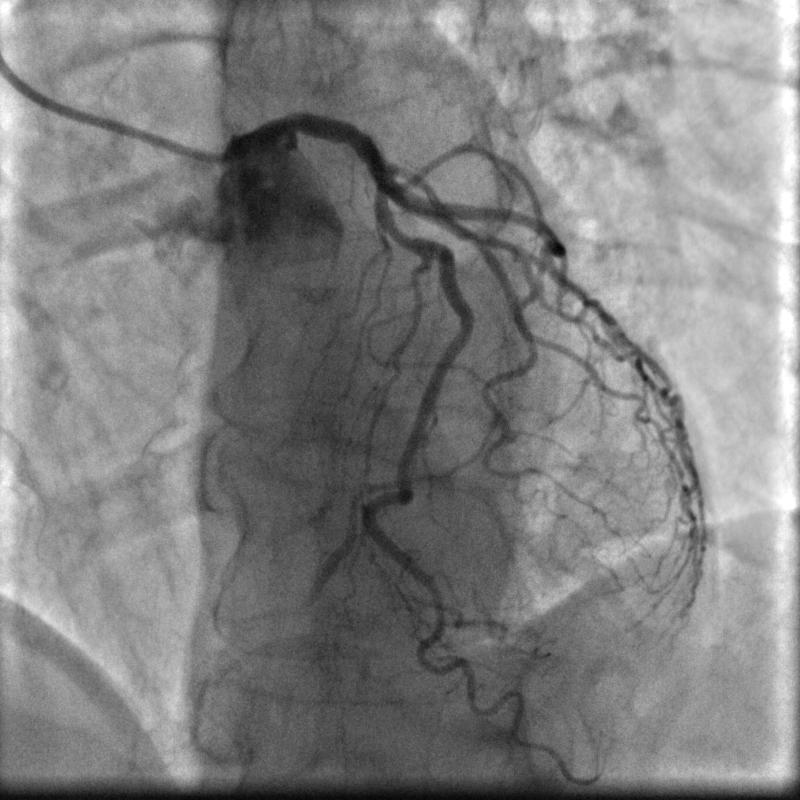Stenosis: (384, 221, 420, 244)
